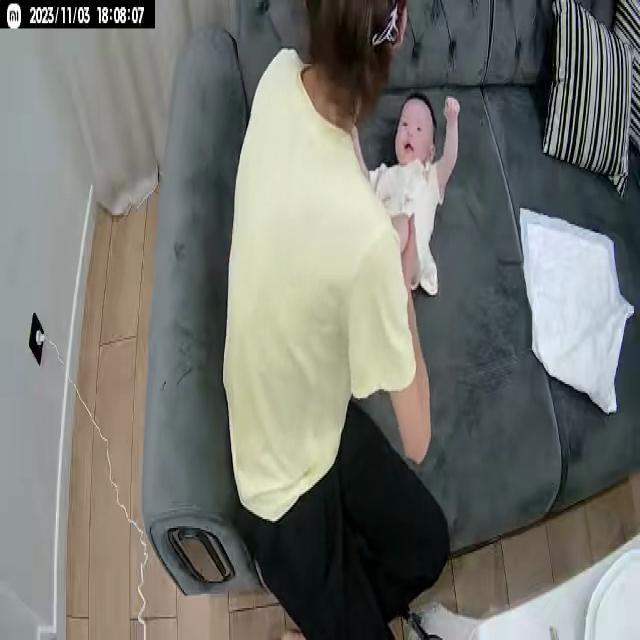baby: (346, 90, 462, 302)
